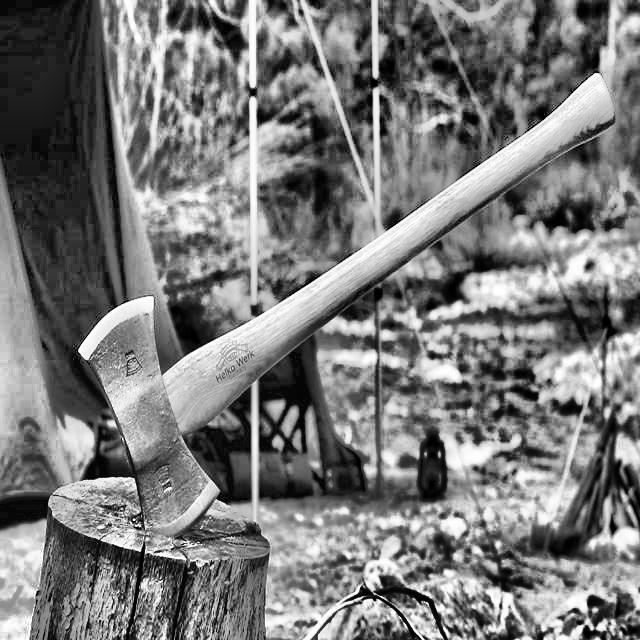kapak: (43, 58, 623, 562)
